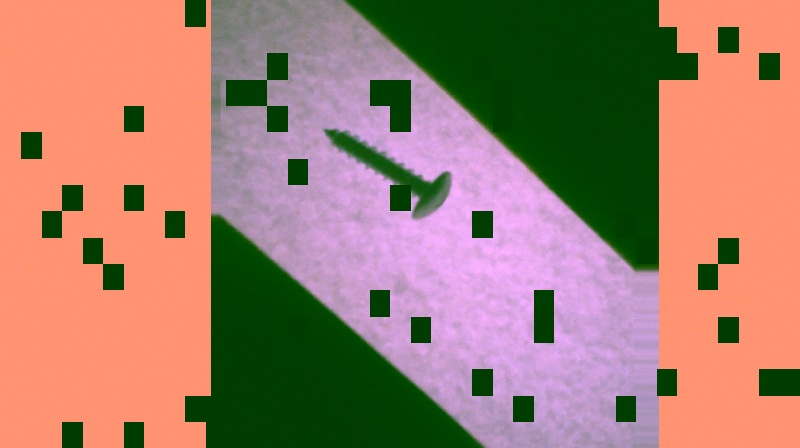S003: (320, 124, 453, 222)
